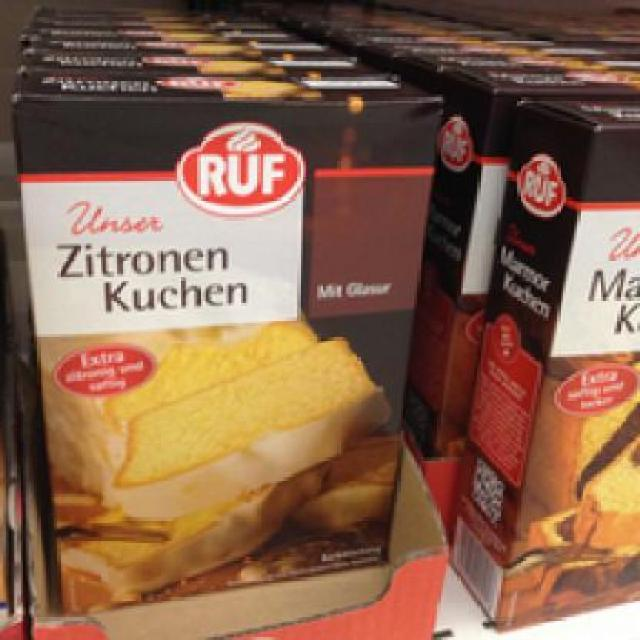Cake: (14, 77, 443, 617), (452, 80, 638, 626)
